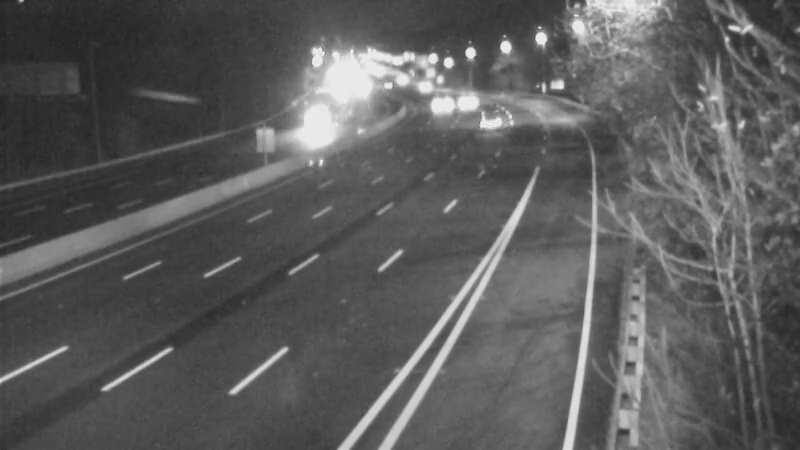vehicle: (399, 64, 449, 114), (443, 76, 493, 126), (416, 74, 466, 124), (462, 92, 512, 142), (285, 103, 335, 153)
